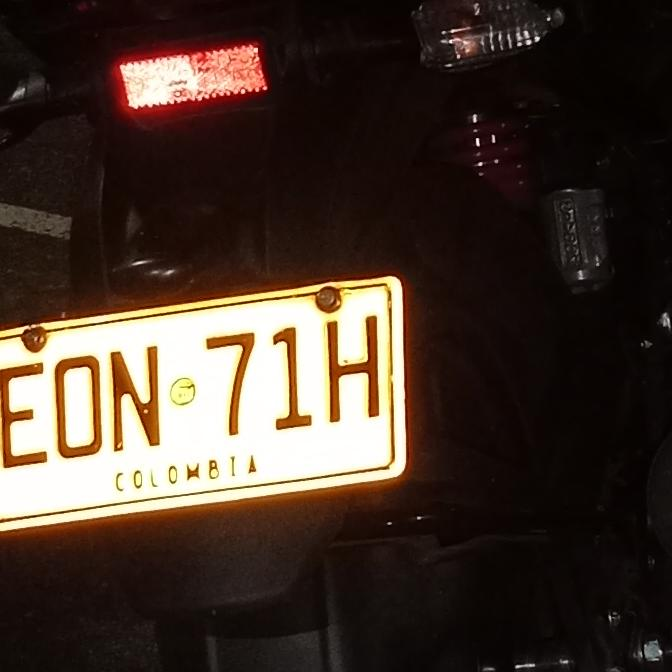plates: (0, 249, 418, 535)
